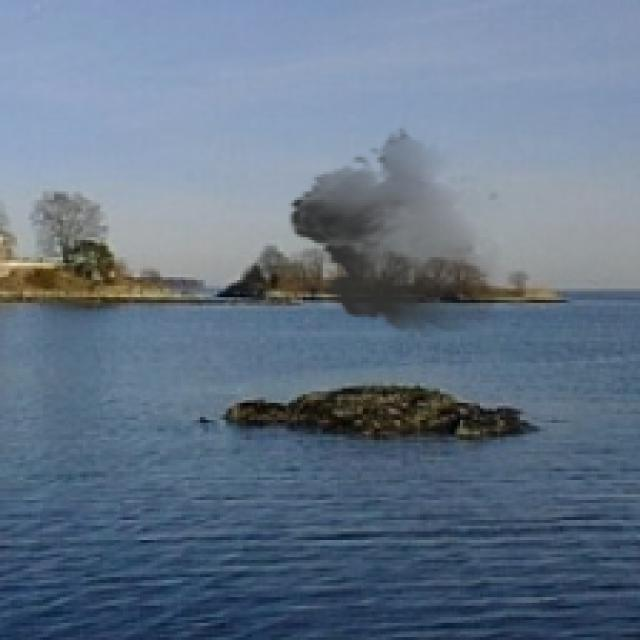smoke: (280, 126, 511, 337)
